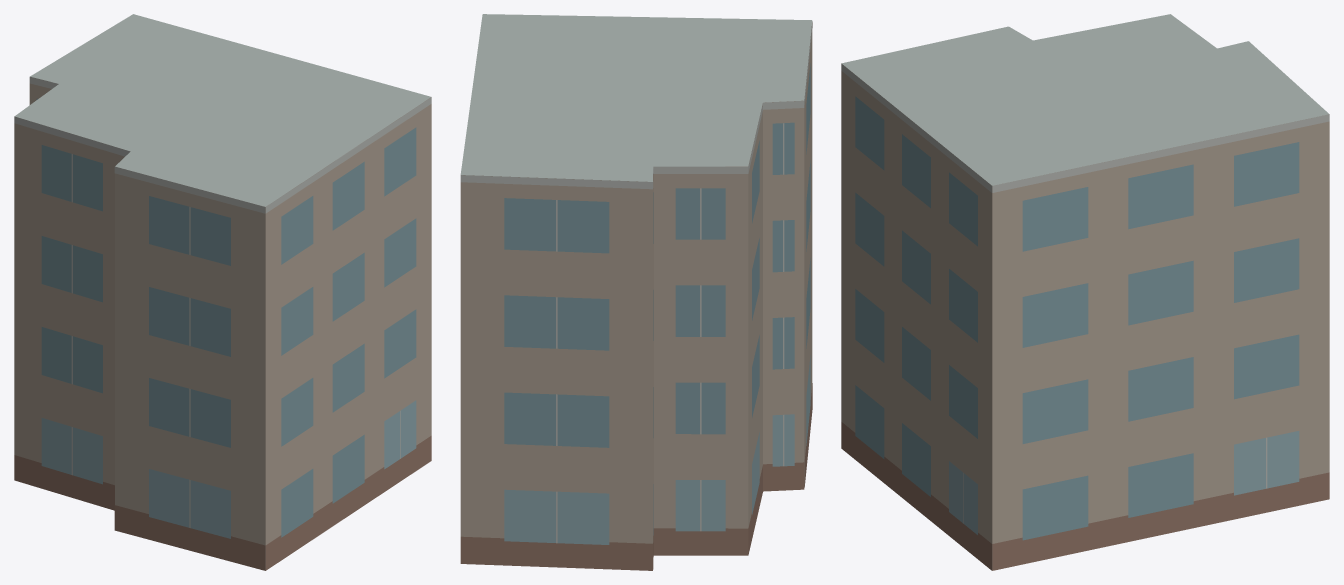
Rendered from survey-upis-32746788.glb.
3 renders of one model, left to right at view 1: azimuth 30°, elevation 25°; view 2: azimuth 150°, elevation 25°; view 3: azimuth 270°, elevation 25°, orthographic. The views are drawn at different scales.
Visible parts, largest first — view 1: survey-upis-32746788.tmp; view 2: survey-upis-32746788.tmp; view 3: survey-upis-32746788.tmp.
Boxes of the visible parts, <box> form: survey-upis-32746788.tmp: <box>14,14,431,570</box>; survey-upis-32746788.tmp: <box>460,14,812,570</box>; survey-upis-32746788.tmp: <box>841,14,1329,570</box>.
Size of the model in its own units: 12.45 by 13 by 14.95.
